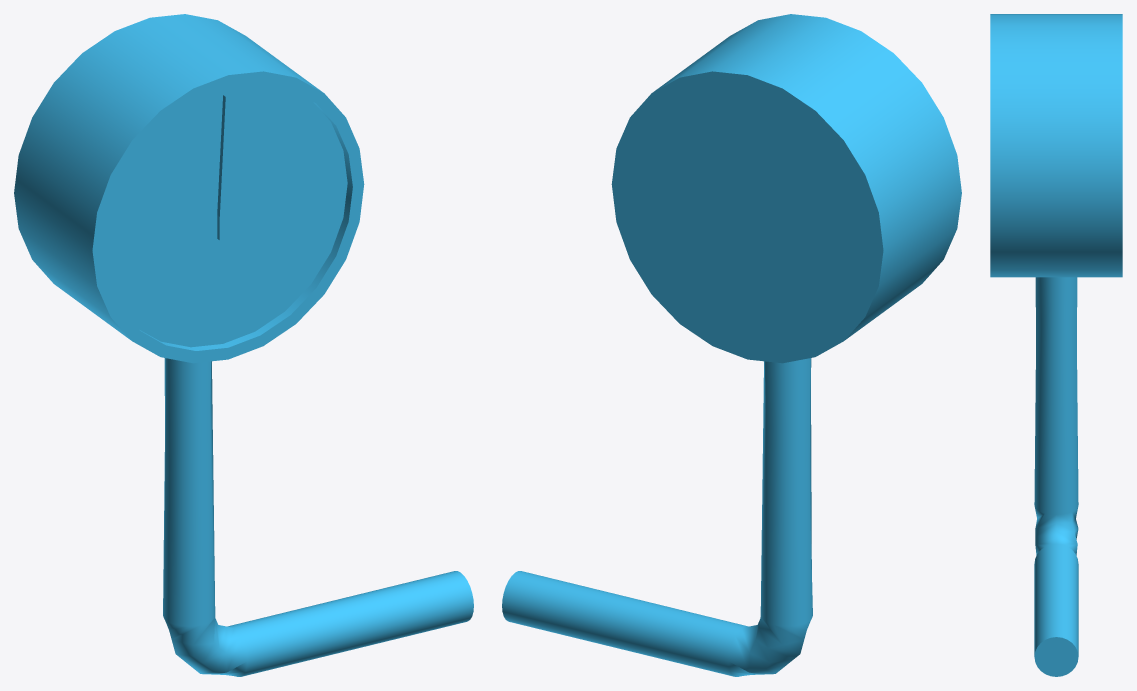
The picture shows the model from 3 angles, left to right: view 1: azimuth 30°, elevation 25°; view 2: azimuth 150°, elevation 25°; view 3: azimuth 270°, elevation 25°; orthographic projection. The views are drawn at different scales.
Bounding box in the file's own units: 198 × 297 × 65.97.
